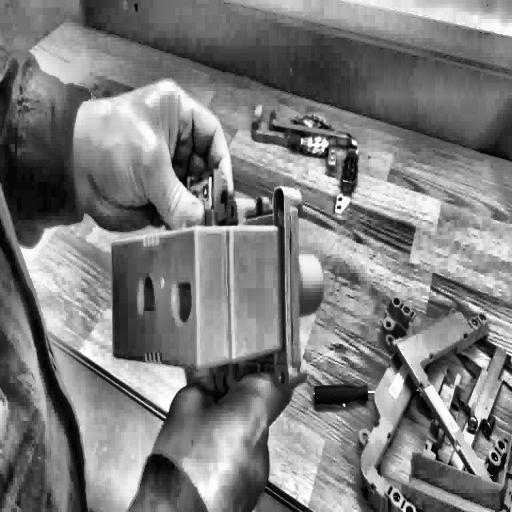connector: (97, 168, 329, 409)
